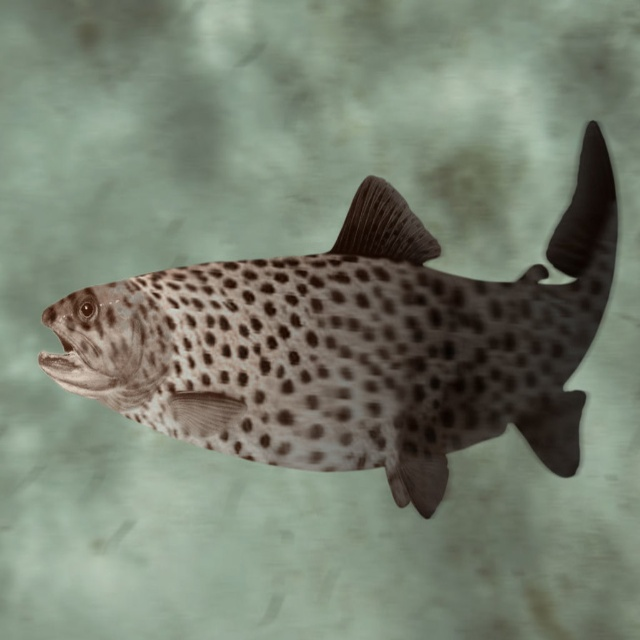Fish: (28, 152, 626, 529)
